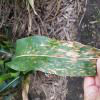Corn Gray leaf spot: (5, 36, 97, 76)
